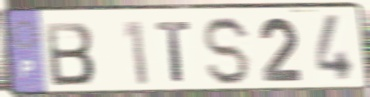1: (122, 18, 151, 88)
2: (258, 15, 305, 86)
4: (314, 11, 356, 87)
B: (43, 20, 98, 88)
S: (202, 14, 254, 88)
T: (153, 19, 194, 85)
